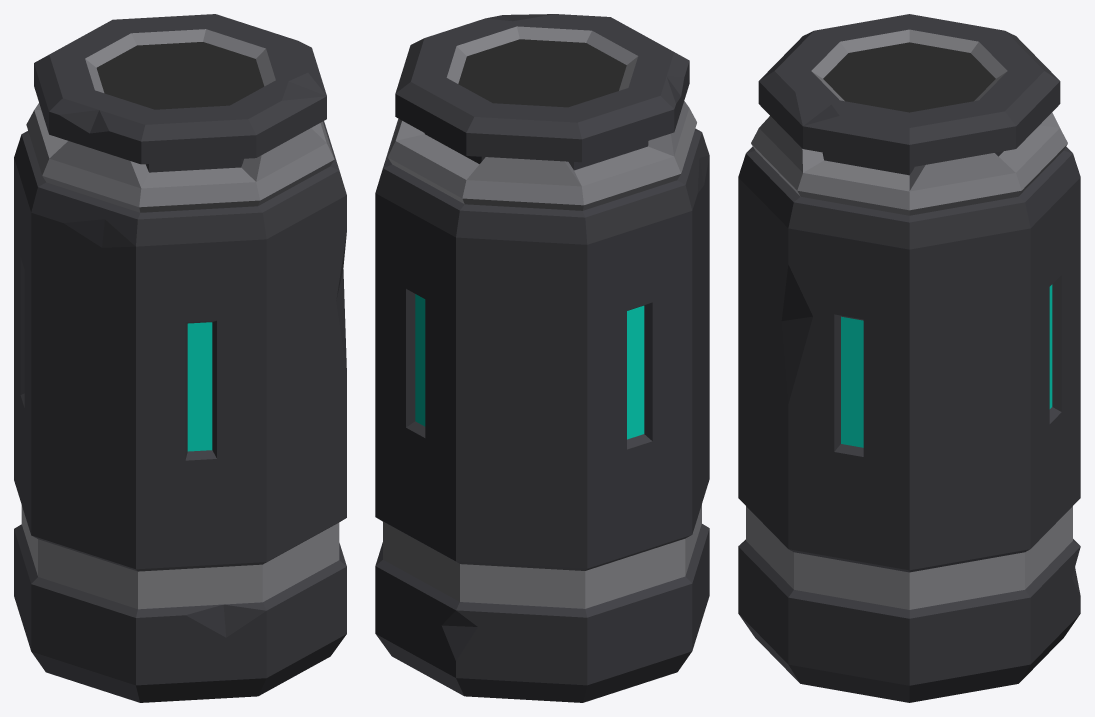
The model's file is SM_Prop_Barrel_01.glb.
The picture shows the model from 3 angles, left to right: view 1: azimuth 30°, elevation 25°; view 2: azimuth 150°, elevation 25°; view 3: azimuth 270°, elevation 25°; orthographic projection.
Parts seen in each view (by area): view 1: SM_Prop_Barrel_01; view 2: SM_Prop_Barrel_01; view 3: SM_Prop_Barrel_01.
Boxes of the visible parts, x1,y1,x2,y2 form: SM_Prop_Barrel_01: (14, 14, 346, 702); SM_Prop_Barrel_01: (375, 14, 709, 702); SM_Prop_Barrel_01: (738, 14, 1080, 702).
Bounding box in the file's own units: 0.3648 × 0.6657 × 0.3648.
1 material, 1 textured.
